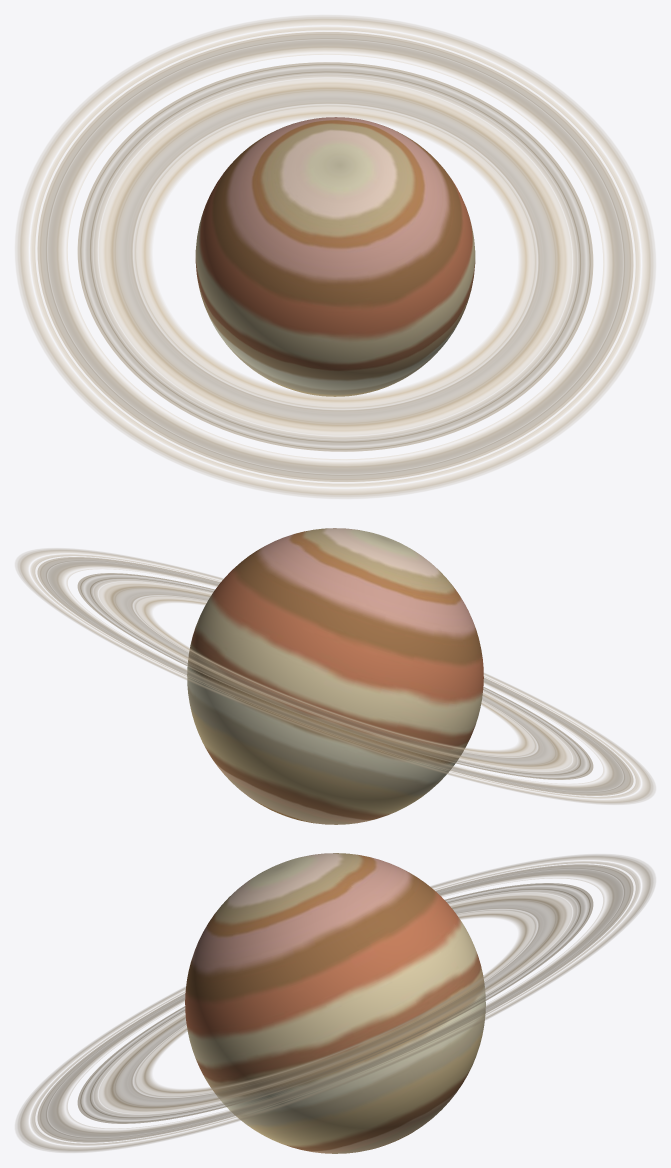
File: ringed-planet.glb
3 renders of one model, top to bottom at view 1: azimuth 30°, elevation 25°; view 2: azimuth 150°, elevation 25°; view 3: azimuth 270°, elevation 25°, orthographic. The views are drawn at different scales.
Visible parts, largest first — view 1: Rings, Planet; view 2: Planet, Rings; view 3: Planet, Rings.
Boxes of the visible parts, x1,y1,x2,y2 form: Rings: (15,15,655,498); Planet: (195,117,475,396); Planet: (187,528,483,824); Rings: (15,548,655,804); Planet: (185,853,485,1153); Rings: (15,854,655,1152).
Size of the model in its own units: 18.12 by 8 by 17.1.
Materials: 2 (2 with a texture image).
